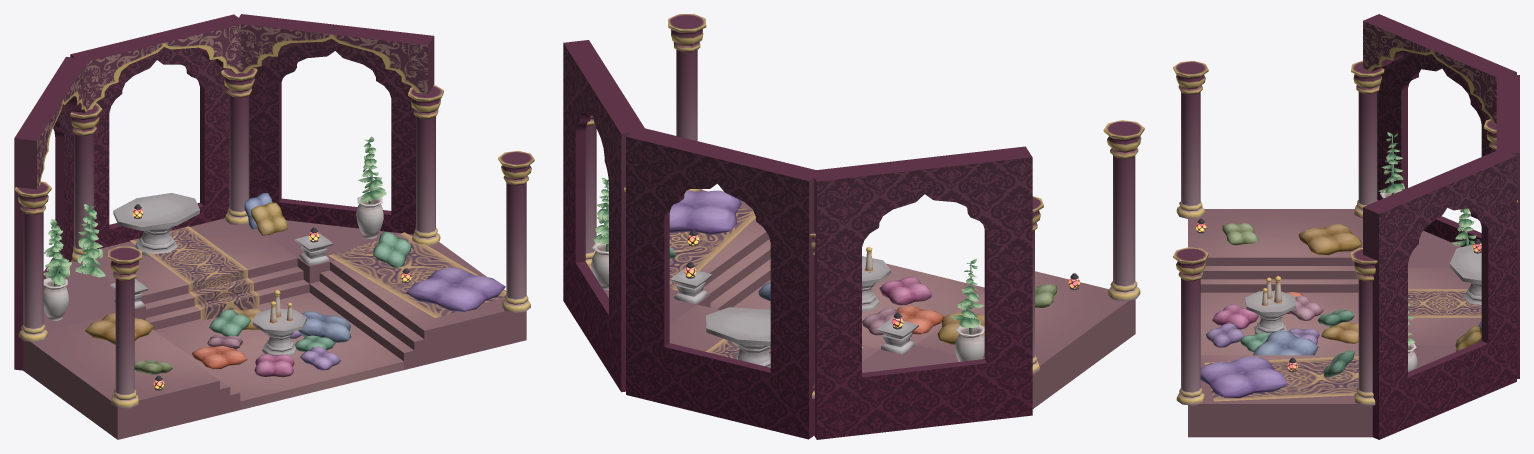
Rendered from arabian  loung.fbx.
3 renders of one model, left to right at view 1: azimuth 30°, elevation 25°; view 2: azimuth 150°, elevation 25°; view 3: azimuth 270°, elevation 25°, orthographic. The views are drawn at different scales.
Parts seen in each view (by area): view 1: WallR2, Wall, StairsL, StairsR, Floor, WallL2, StairsB, StairsB1, StairsB2, Pillar6, Pillar1, Pillar2 (+22 smaller); view 2: WallL2, Wall, WallR2, StairsL, Pillar1, StairsR, Floor, Pillar6, Table2, Pillow11, StairsB2, StairsB (+14 smaller); view 3: WallR2, StairsL, WallL2, StairsR, Floor, Pillar6, Pillar1, StairsB2, Pillar2, StairsB, Pillow11, Wall (+19 smaller).
Boxes of the visible parts, x1,y1,x2,y2 form: WallR2: [236, 14, 434, 234]; Wall: [70, 14, 244, 248]; StairsL: [23, 317, 240, 439]; StairsR: [309, 242, 526, 369]; Floor: [155, 292, 403, 409]; WallL2: [14, 56, 88, 370]; StairsB: [93, 218, 309, 329]; StairsB1: [130, 226, 259, 320]; StairsB2: [328, 232, 506, 317]; Pillar6: [498, 150, 534, 312]; Pillar1: [108, 246, 142, 408]; Pillar2: [15, 181, 51, 342]; WallL2: [810, 146, 1032, 439]; Wall: [626, 127, 821, 439]; WallR2: [563, 40, 646, 392]; StairsL: [914, 271, 1135, 408]; Pillar1: [1103, 120, 1144, 301]; StairsR: [698, 190, 770, 310]; Floor: [733, 263, 984, 348]; Pillar6: [668, 14, 706, 191]; Table2: [706, 307, 770, 367]; Pillow11: [669, 190, 741, 234]; StairsB2: [589, 207, 755, 290]; StairsB: [669, 304, 879, 361]; WallR2: [1363, 150, 1516, 439]; StairsL: [1188, 209, 1362, 292]; WallL2: [1363, 14, 1516, 246]; StairsR: [1188, 355, 1372, 437]; Floor: [1200, 292, 1358, 355]; Pillar6: [1173, 247, 1208, 405]; Pillar1: [1173, 60, 1208, 219]; StairsB2: [1204, 356, 1358, 401]; Pillar2: [1351, 60, 1384, 218]; StairsB: [1408, 267, 1481, 345]; Pillow11: [1200, 356, 1288, 398]; Wall: [1496, 75, 1519, 378].
Size of the model in its own units: 103493 by 54048 by 75184.
